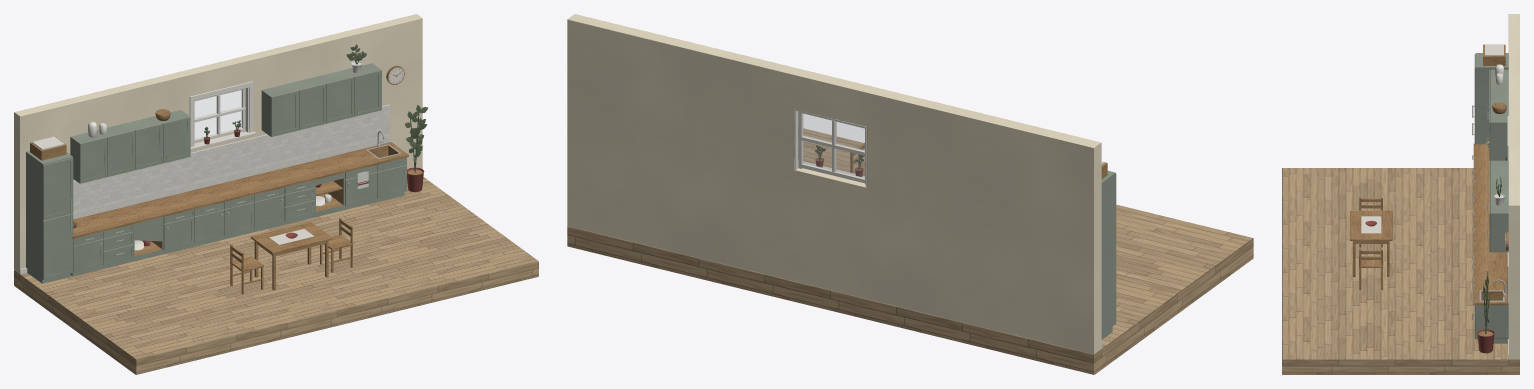
The model's file is Room_Kitchen.fbx.
The picture shows the model from 3 angles, left to right: view 1: azimuth 30°, elevation 25°; view 2: azimuth 150°, elevation 25°; view 3: azimuth 270°, elevation 25°; orthographic projection. The views are drawn at different scales.
Parts seen in each view (by area): view 1: Kitchen_Floor, Kitchen_BackWall, Kitchen_BaseCabinets, Kitchen_Backsplash, Kitchen_Worktop, Kitchen_UpperRight, Kitchen_Pantry, Kitchen_UpperLeft, Kitchen_Window, Kitchen_DiningTable, Kitchen_Chairs, Kitchen_TopDecor (+2 smaller); view 2: Kitchen_BackWall, Kitchen_Floor, Kitchen_Window, Kitchen_Pantry; view 3: Kitchen_Floor, Kitchen_BackWall, Kitchen_Worktop, Kitchen_UpperRight, Kitchen_UpperLeft, Kitchen_Pantry, Kitchen_DiningTable, Kitchen_BaseCabinets, Kitchen_TopDecor, Kitchen_Chairs, Kitchen_Plant, Kitchen_TableDecor.
Part boxes in pixels (<box>): Kitchen_Floor: <box>14,177,538,374</box>; Kitchen_BackWall: <box>14,14,422,274</box>; Kitchen_BaseCabinets: <box>70,157,406,276</box>; Kitchen_Backsplash: <box>73,104,390,219</box>; Kitchen_Worktop: <box>72,131,408,238</box>; Kitchen_UpperRight: <box>261,63,381,136</box>; Kitchen_Pantry: <box>26,151,73,283</box>; Kitchen_UpperLeft: <box>70,110,190,183</box>; Kitchen_Window: <box>189,81,255,150</box>; Kitchen_DiningTable: <box>250,222,332,290</box>; Kitchen_Chairs: <box>230,218,353,294</box>; Kitchen_TopDecor: <box>30,44,366,160</box>; Kitchen_BackWall: <box>567,14,1102,354</box>; Kitchen_Floor: <box>567,128,1253,374</box>; Kitchen_Window: <box>794,109,866,187</box>; Kitchen_Pantry: <box>1101,170,1116,339</box>; Kitchen_Floor: <box>1282,168,1519,374</box>; Kitchen_BackWall: <box>1507,14,1519,359</box>; Kitchen_Worktop: <box>1473,143,1508,305</box>; Kitchen_UpperRight: <box>1487,160,1508,252</box>; Kitchen_UpperLeft: <box>1487,69,1508,160</box>; Kitchen_Pantry: <box>1472,53,1508,144</box>; Kitchen_DiningTable: <box>1350,210,1392,276</box>; Kitchen_BaseCabinets: <box>1472,155,1508,343</box>; Kitchen_TopDecor: <box>1483,44,1506,205</box>; Kitchen_Chairs: <box>1359,197,1383,289</box>; Kitchen_Plant: <box>1477,271,1494,353</box>; Kitchen_TableDecor: <box>1361,216,1381,233</box>.
Size of the model in its own units: 800 by 330 by 420.
